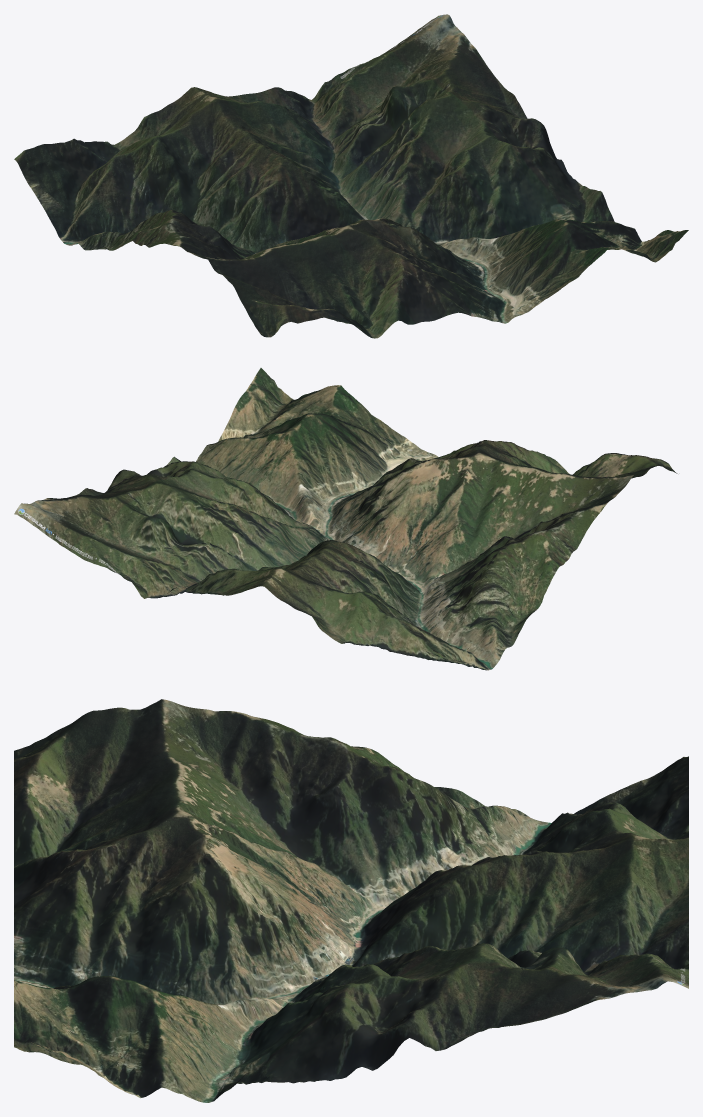
File: sjk_hydropower_sim_v0_1.glb
3 views of the same model, one above another, from view 1: azimuth 30°, elevation 25°; view 2: azimuth 150°, elevation 25°; view 3: azimuth 270°, elevation 25° (orthographic). The views are drawn at different scales.
Parts seen in each view (by area): view 1: team_fbx_terrain_129; view 2: team_fbx_terrain_129; view 3: team_fbx_terrain_129.
Boxes of the visible parts, x1=… form: team_fbx_terrain_129: x1=14, y1=14, x2=688, y2=338; team_fbx_terrain_129: x1=14, y1=368, x2=677, y2=670; team_fbx_terrain_129: x1=14, y1=699, x2=688, y2=1102.
Size of the model in its own units: 10000 by 2079 by 10000.
Materials: 2 (1 with a texture image).
